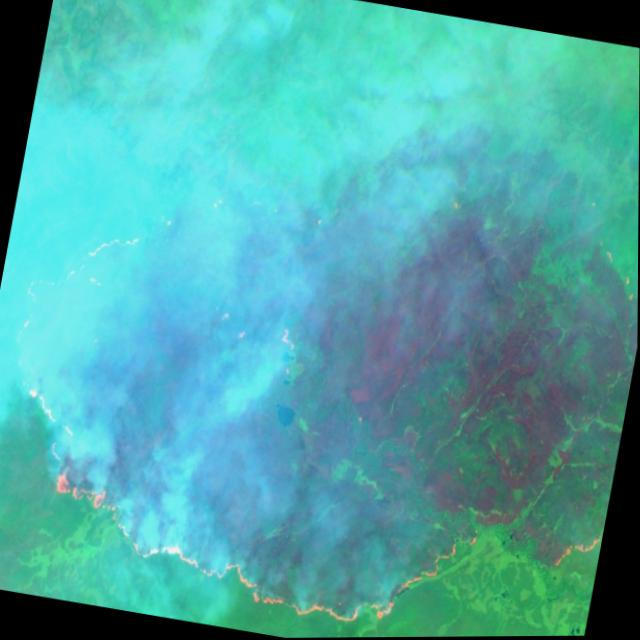fire: (0, 139, 639, 640)
